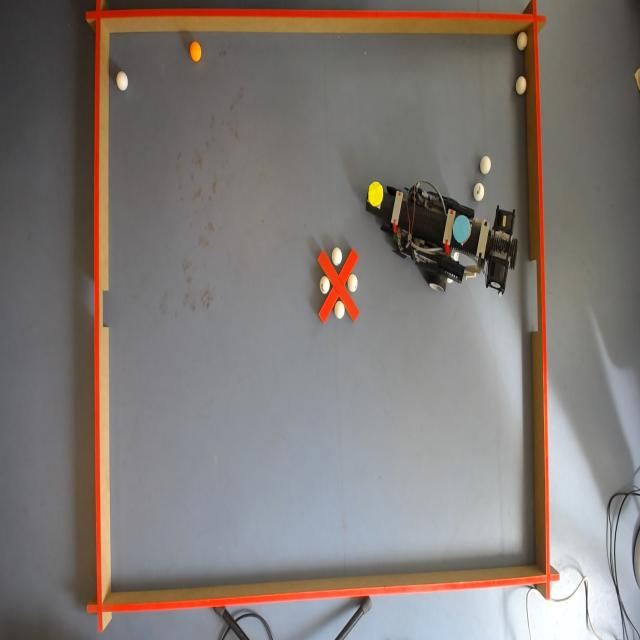orange: (190, 43, 202, 64)
robot: (366, 181, 519, 294)
robot-front: (368, 182, 384, 206)
robot-rear: (453, 214, 470, 243)
white: (116, 71, 128, 94), (516, 32, 529, 52), (331, 248, 343, 267), (479, 156, 491, 174), (333, 302, 344, 320), (516, 76, 526, 95), (348, 275, 359, 290), (475, 186, 485, 200), (321, 277, 330, 292)
